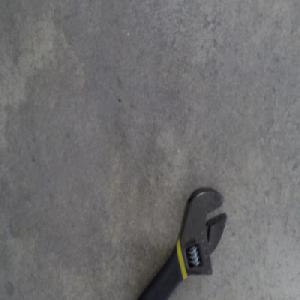AdjustableWrench: (135, 187, 228, 299)
